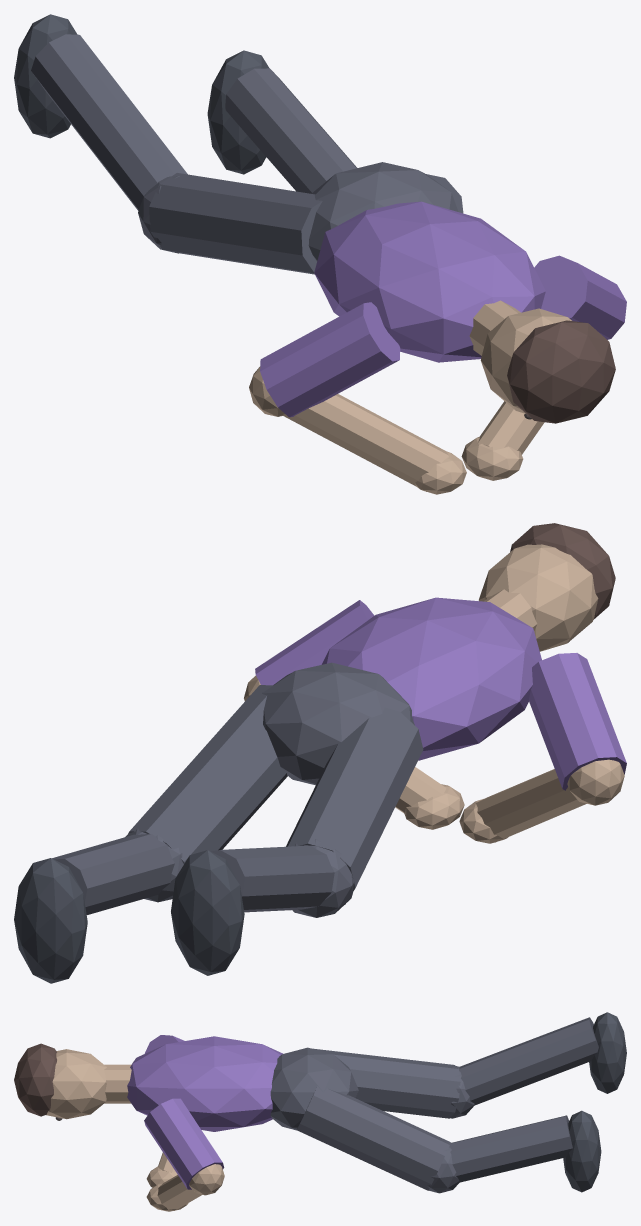
3 renders of one model, top to bottom at view 1: azimuth 30°, elevation 25°; view 2: azimuth 150°, elevation 25°; view 3: azimuth 270°, elevation 25°, orthographic. The views are drawn at different scales.
Visible parts, largest first — view 1: world; view 2: world; view 3: world.
Part boxes in pixels (bbox=[...]): world: bbox=[14, 14, 626, 494]; world: bbox=[14, 523, 626, 983]; world: bbox=[14, 1012, 626, 1211].
Size of the model in its own units: 0.93 by 0.5928 by 2.04.
